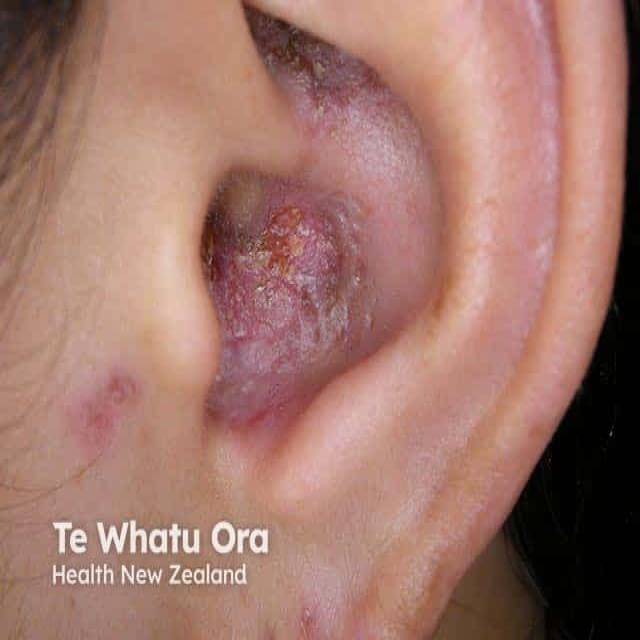lupus-detected: (59, 164, 492, 640), (230, 2, 420, 186)
